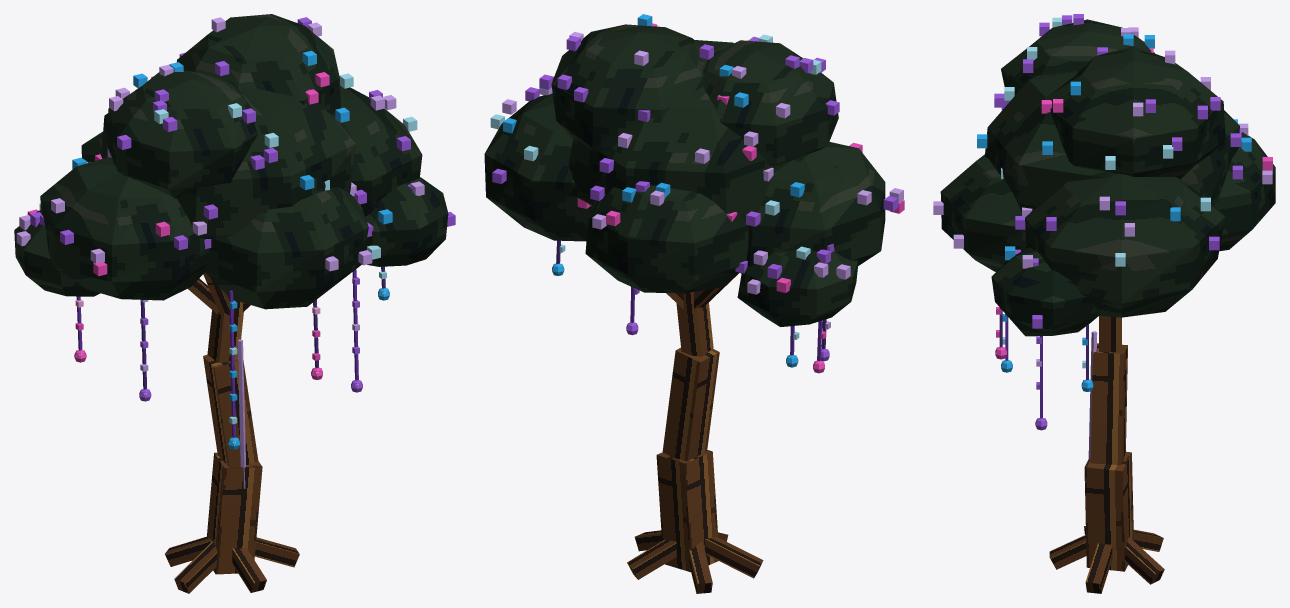
File: lumen_tree.glb
The picture shows the model from 3 angles, left to right: view 1: azimuth 30°, elevation 25°; view 2: azimuth 150°, elevation 25°; view 3: azimuth 270°, elevation 25°; orthographic projection.
Parts seen in each view (by area): view 1: lumen_tree; view 2: lumen_tree; view 3: lumen_tree.
Part boxes in pixels (bbox=[...]): lumen_tree: bbox=[14, 14, 455, 593]; lumen_tree: bbox=[484, 14, 904, 593]; lumen_tree: bbox=[933, 14, 1275, 593].
Size of the model in its own units: 3.74 by 5.04 by 2.98.
Materials: 3 (2 with a texture image).
